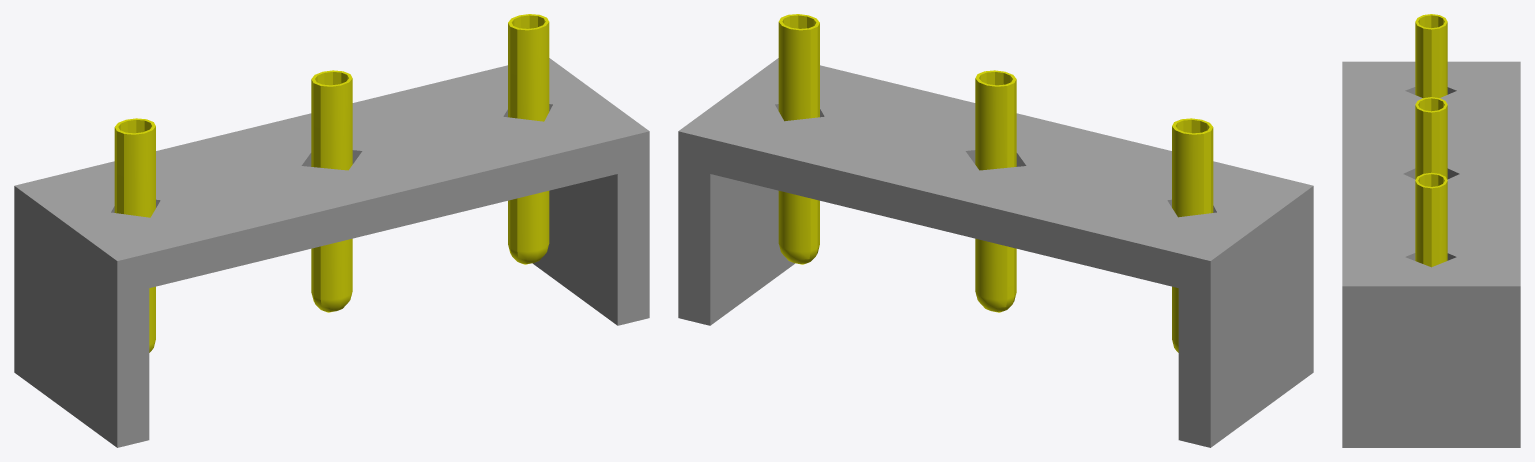
The model's file is TuboEnsaio 1.fbx.
3 renders of one model, left to right at view 1: azimuth 30°, elevation 25°; view 2: azimuth 150°, elevation 25°; view 3: azimuth 270°, elevation 25°, orthographic. The views are drawn at different scales.
Parts seen in each view (by area): view 1: Base1; view 2: Base1; view 3: Base1.
Part boxes in pixels (bbox=[...]): Base1: bbox=[14, 14, 649, 447]; Base1: bbox=[678, 14, 1313, 447]; Base1: bbox=[1342, 14, 1520, 447].
Size of the model in its own units: 2.03 by 1 by 0.6809.
